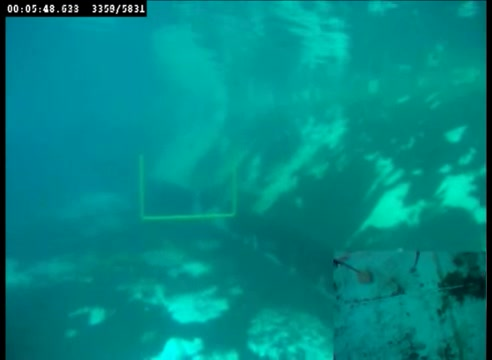channel: (135, 155, 242, 224)
